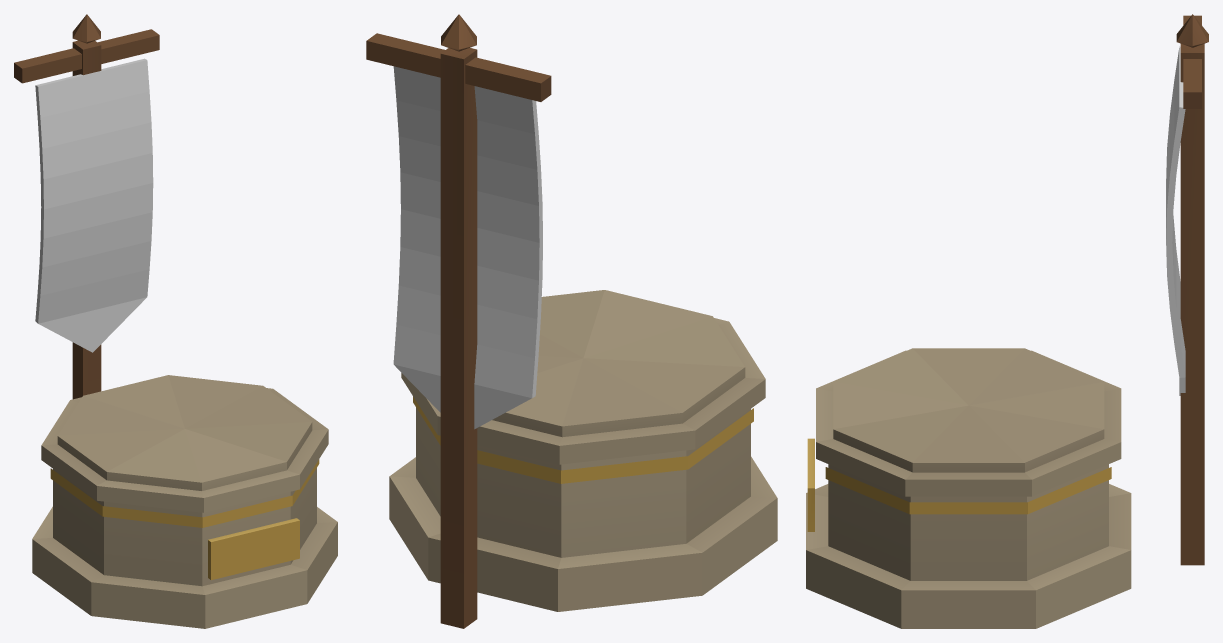
File: HeroPlinth.glb
3 renders of one model, left to right at view 1: azimuth 30°, elevation 25°; view 2: azimuth 150°, elevation 25°; view 3: azimuth 270°, elevation 25°, orthographic. The views are drawn at different scales.
Parts seen in each view (by area): view 1: Pedestal, Banner, Trim, Pole; view 2: Pedestal, Banner, Pole, Trim; view 3: Pedestal, Pole, Trim, Banner.
Part boxes in pixels (x1,y1,x2,y2): Pedestal: (32, 375, 337, 628); Banner: (35, 58, 153, 352); Trim: (50, 459, 319, 580); Pole: (14, 14, 159, 399); Pedestal: (389, 290, 777, 611); Banner: (393, 66, 542, 429); Pole: (366, 14, 551, 628); Trim: (413, 396, 753, 483); Pedestal: (806, 348, 1131, 628); Pole: (1176, 14, 1208, 565); Trim: (807, 438, 1111, 531); Banner: (1166, 46, 1185, 395).
Size of the model in its own units: 6.1 by 11.3 by 7.55.
